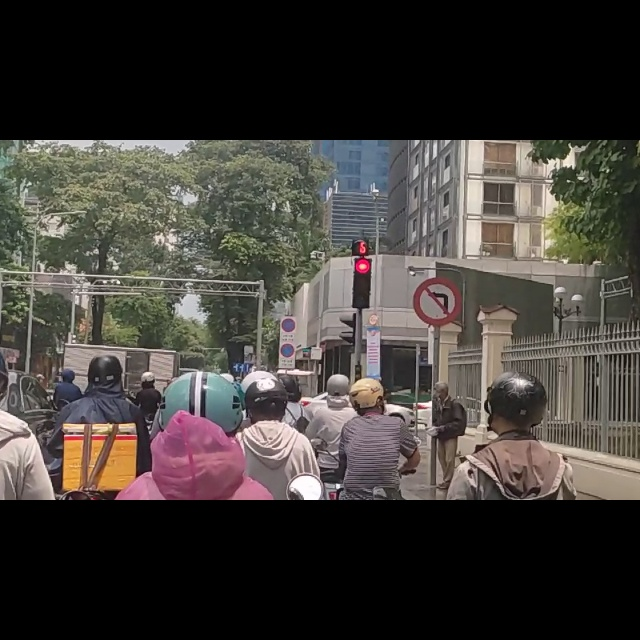bien_cam: (412, 238, 462, 332), (282, 315, 296, 343), (281, 363, 295, 390)
